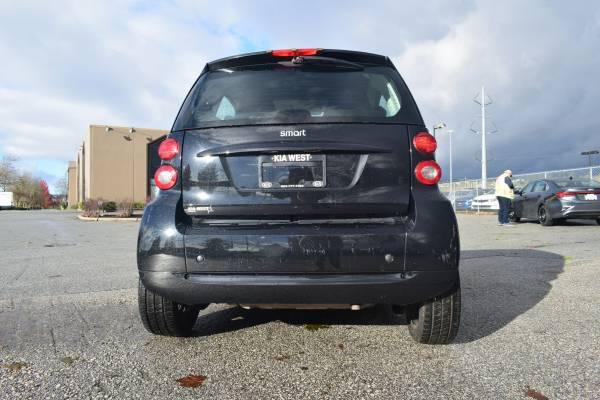Left_Taillight: (151, 133, 181, 194)
Rear_Bumper: (136, 186, 462, 305)
Rear_Windshield: (174, 58, 425, 131)
Right_Taillight: (408, 123, 442, 190)
Tailgate: (179, 125, 413, 230)
Wheel: (135, 278, 201, 336), (405, 282, 460, 339)
